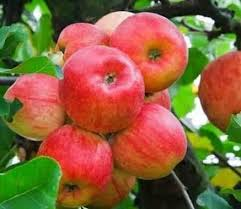apple: (58, 42, 153, 135)
